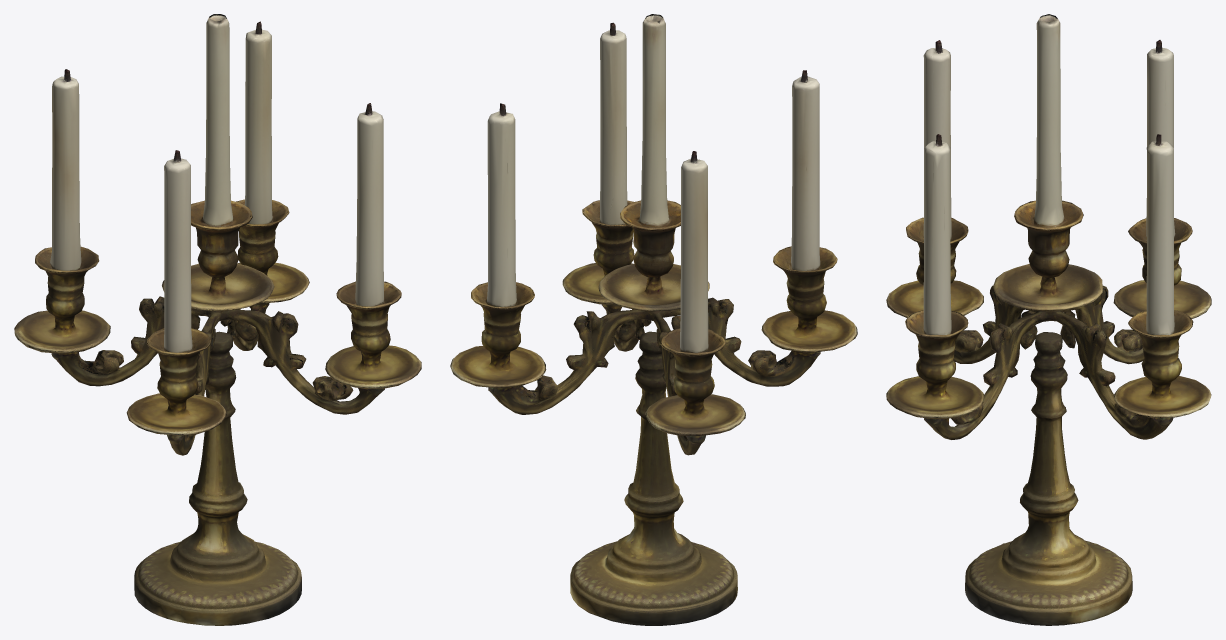
The model's file is candlestick.glb.
The picture shows the model from 3 angles, left to right: view 1: azimuth 30°, elevation 25°; view 2: azimuth 150°, elevation 25°; view 3: azimuth 270°, elevation 25°; orthographic projection.
Visible parts, largest first — view 1: world; view 2: world; view 3: world.
Boxes of the visible parts, left/top/right/bottom form: world: left=14, top=14, right=421, bottom=625; world: left=450, top=14, right=857, bottom=625; world: left=886, top=14, right=1211, bottom=625.
Size of the model in its own units: 0.5138 by 0.9964 by 0.5136.
1 material, 1 textured.
